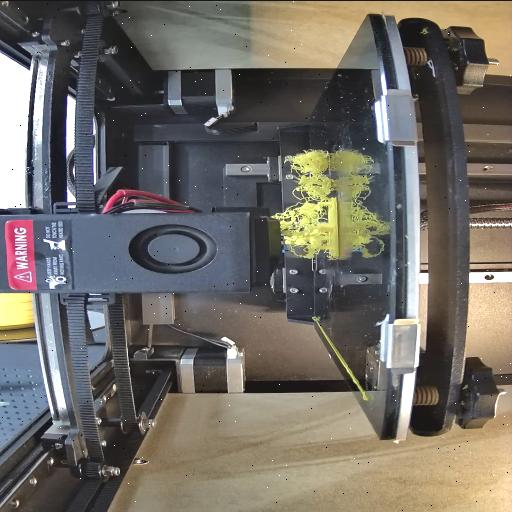spaghetti: (270, 152, 334, 262)
